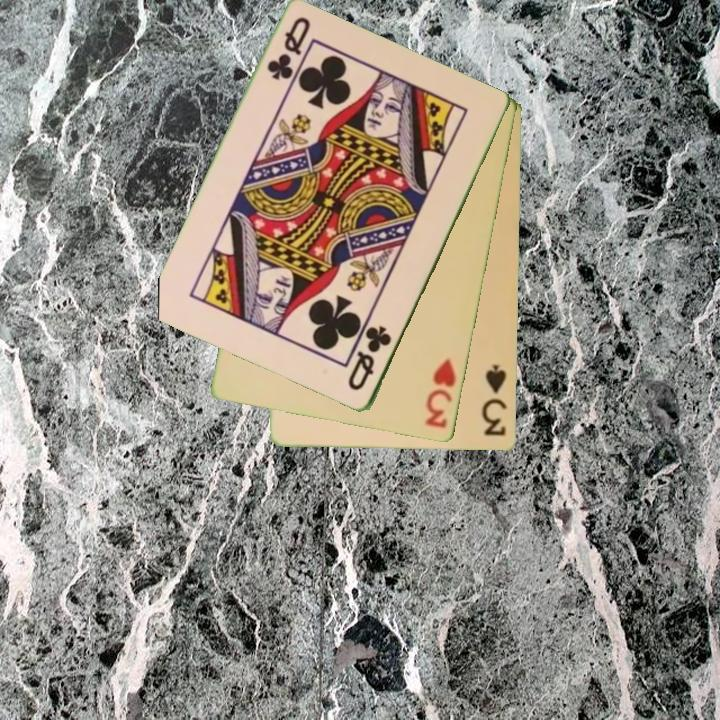3h: (422, 355, 460, 432)
3s: (478, 361, 510, 439)
Qc: (344, 322, 395, 394), (263, 14, 314, 84)
